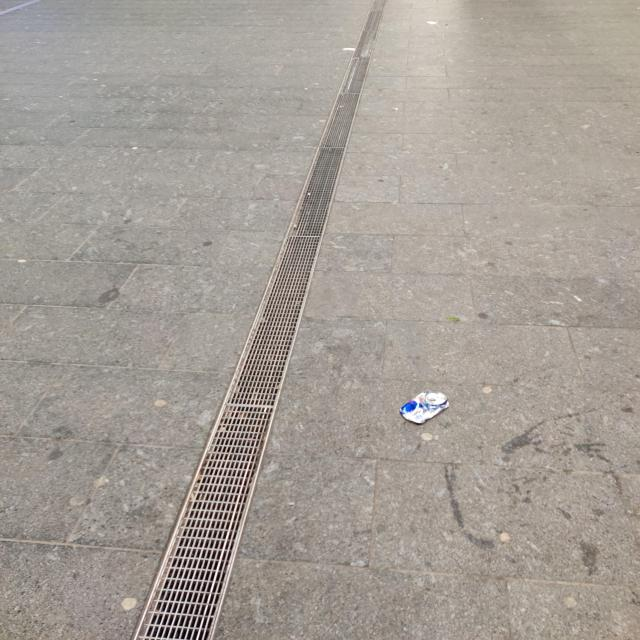litter: (403, 392, 453, 421)
